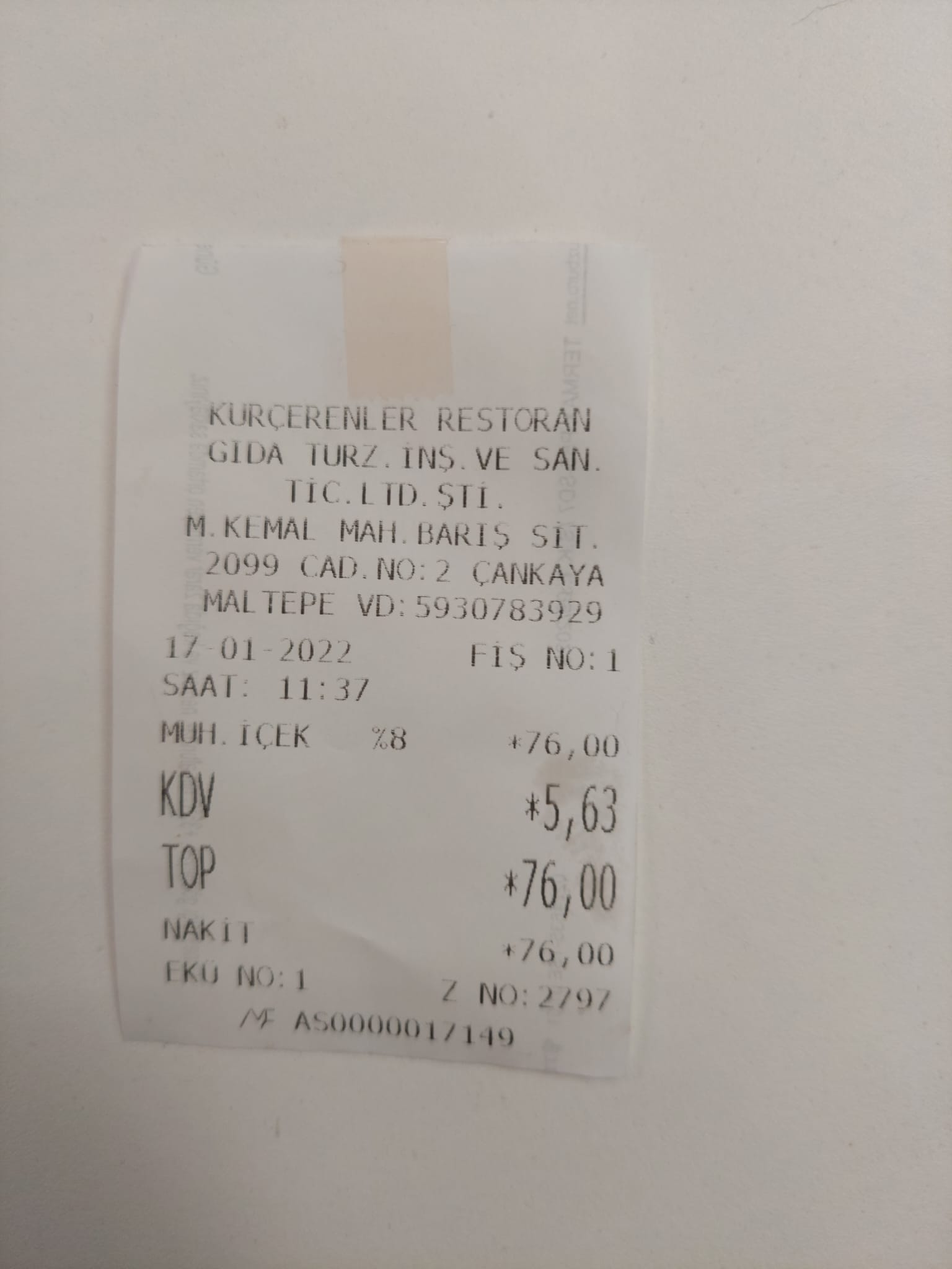date: (144, 621, 366, 673)
price: (519, 849, 623, 926)
workplace: (173, 388, 630, 591)
